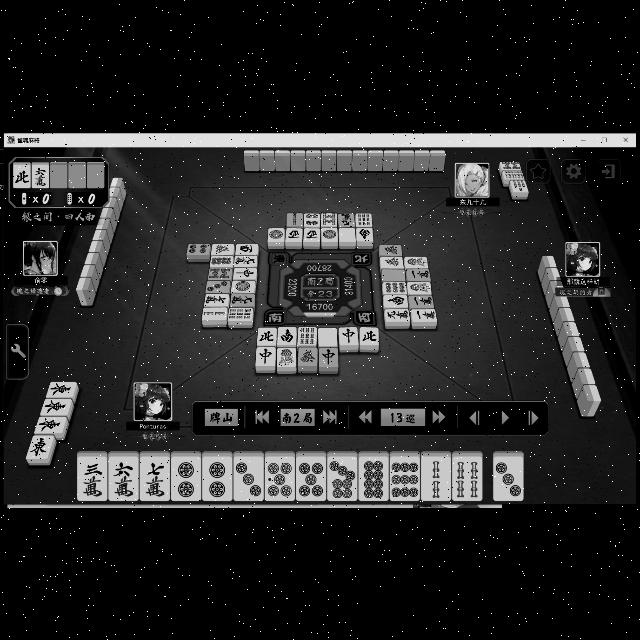1m: (408, 294, 434, 308), (406, 268, 432, 280), (412, 309, 436, 321)
1p: (230, 280, 256, 294), (268, 228, 284, 242), (322, 227, 338, 241)
1s: (276, 346, 296, 366), (407, 282, 431, 294), (405, 256, 429, 268)
2p: (170, 456, 202, 500), (203, 456, 231, 500)
2s: (421, 456, 451, 499), (202, 306, 228, 320), (287, 212, 303, 226)
3m: (78, 456, 108, 500)
3p: (233, 456, 264, 499), (494, 456, 524, 500), (204, 280, 230, 292)
4p: (187, 243, 210, 254), (304, 212, 320, 226)
4s: (452, 456, 482, 500)
5p: (265, 457, 295, 501), (296, 456, 326, 499)
6m: (108, 456, 138, 500), (31, 162, 49, 188)
6s: (504, 169, 524, 179)
7m: (139, 456, 169, 500), (204, 293, 228, 305)
7p: (327, 456, 357, 499)
7s: (511, 178, 529, 192)
8p: (358, 456, 389, 500), (210, 255, 232, 268)
8s: (208, 267, 232, 279), (320, 211, 338, 227), (498, 160, 522, 170)
9m: (231, 293, 255, 307), (386, 309, 410, 321), (235, 254, 258, 266), (338, 212, 354, 226)
9p: (390, 458, 420, 500), (383, 280, 407, 294)
9s: (297, 325, 317, 345), (228, 307, 254, 319), (356, 212, 372, 226)
chun: (256, 346, 276, 366), (318, 348, 338, 367), (339, 327, 359, 345), (233, 267, 257, 279)
haku: (319, 326, 339, 346), (382, 268, 404, 282), (339, 227, 355, 241)
hatsu: (298, 346, 318, 366), (380, 256, 404, 268), (211, 243, 233, 255), (380, 244, 402, 256)
nan: (278, 326, 296, 346), (383, 294, 407, 308), (357, 228, 373, 240)
pe: (13, 162, 31, 188), (361, 326, 379, 346), (258, 326, 276, 344)
sha: (236, 243, 258, 255), (286, 226, 302, 242), (304, 228, 320, 242)
tou: (26, 434, 52, 458), (40, 398, 70, 416), (36, 416, 66, 432), (47, 382, 77, 396)
